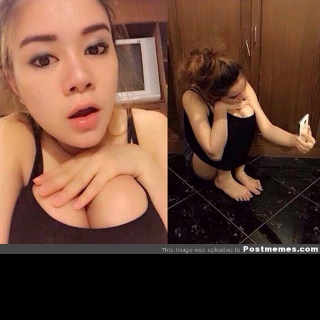without_mask: (221, 75, 245, 104)
